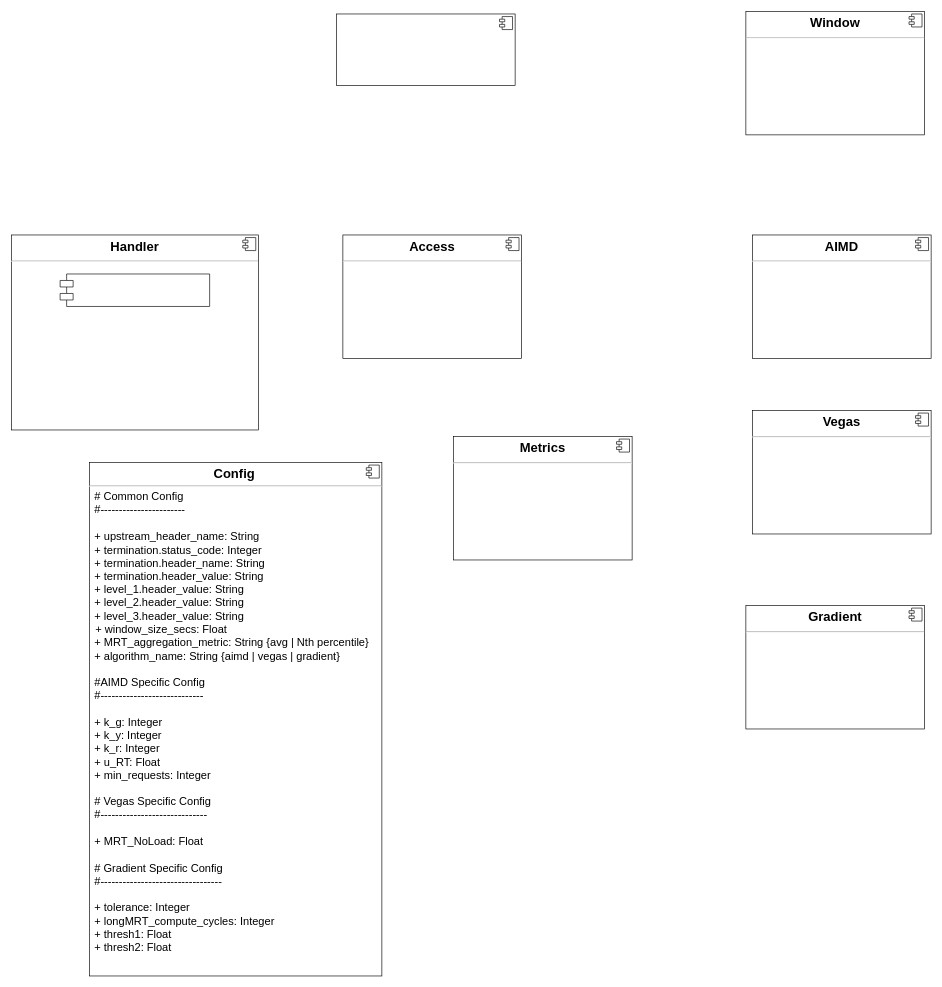
Some shapes in this 942 by 987 pixel diagram are drawn without their labels. The shapes that lost their labels are listed below. From the top down, each one's centre as x and y in pixels, then its label:
At point (425, 49): "Shared Memory + Active Requests: Integer + MRT_window: Array[Float]".
At point (134, 289): "init_worker".
